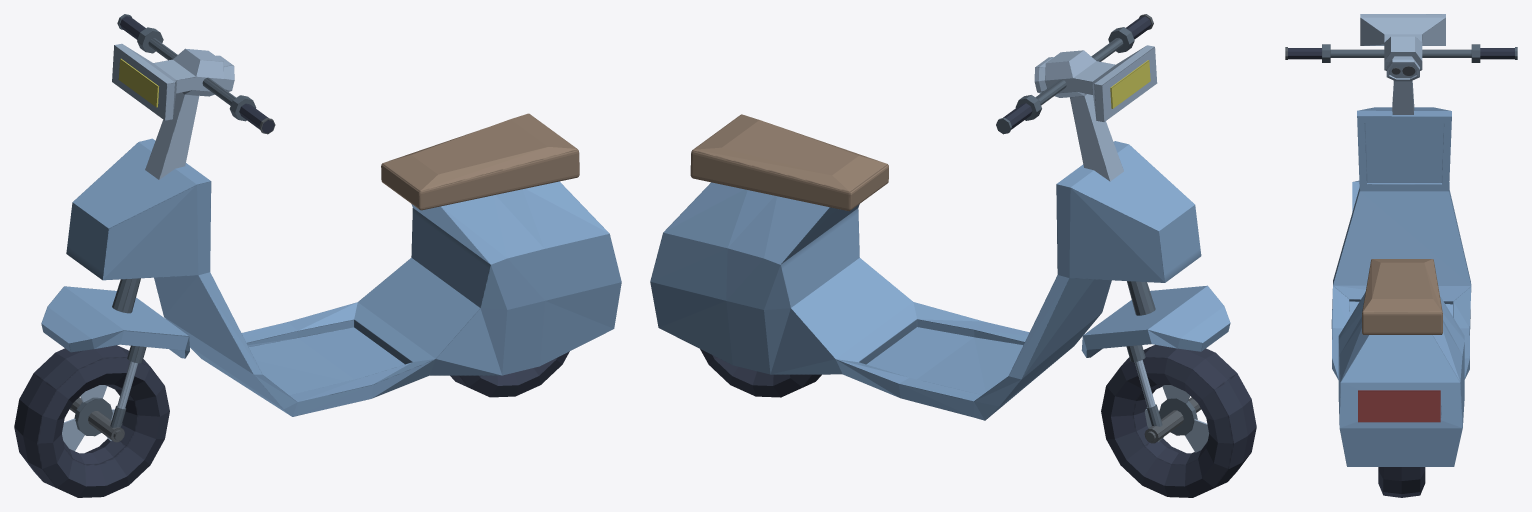
The model's file is Scooter01.glb.
3 renders of one model, left to right at view 1: azimuth 30°, elevation 25°; view 2: azimuth 150°, elevation 25°; view 3: azimuth 270°, elevation 25°, orthographic. The views are drawn at different scales.
Visible parts, largest first — view 1: Node; view 2: Node; view 3: Node.
Boxes of the visible parts, left/top/right/bottom form: Node: left=14, top=14, right=621, bottom=497; Node: left=650, top=14, right=1256, bottom=497; Node: left=1285, top=14, right=1517, bottom=497.
Size of the model in its own units: 764 by 536 by 336.
1 material, 1 textured.
